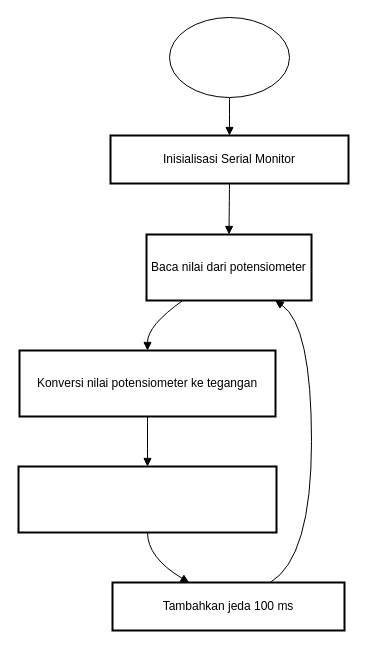
The diagram is 366 pixels wide and 649 high, and some of its shapes have lost their labels. Each missing label, with the centre of its shape:
"Mulai" goes at (x=229, y=57).
"Tampilkan nilai tegangan di Serial Monitor" goes at (x=147, y=499).
